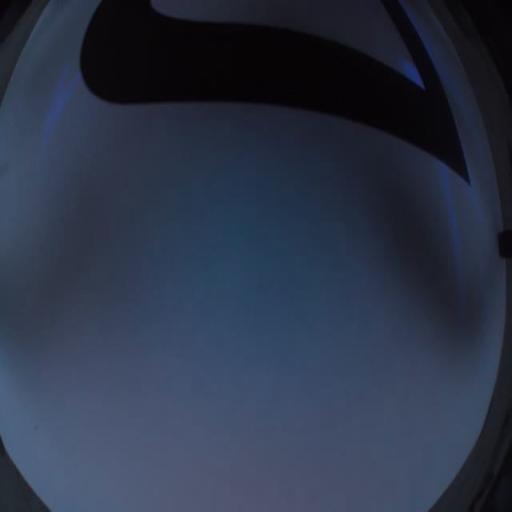B: (79, 0, 471, 186)
